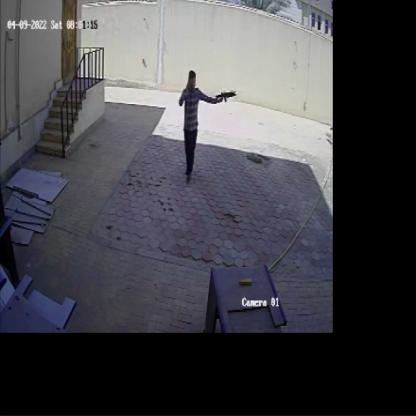handgun: (212, 88, 244, 106)
